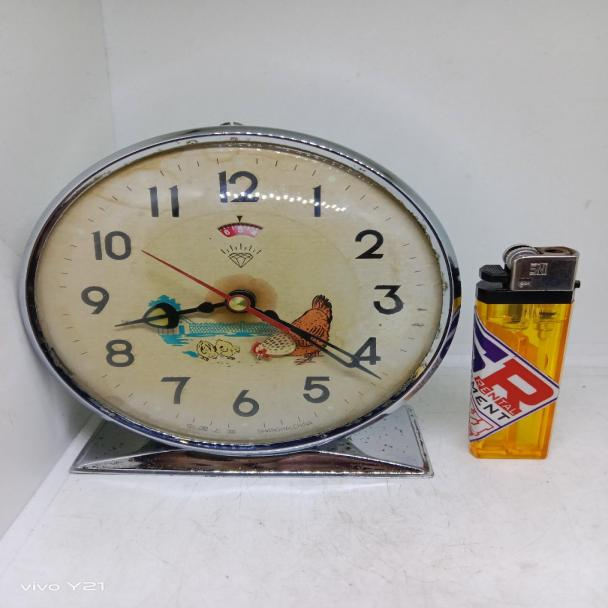Jam: (17, 126, 456, 477)
